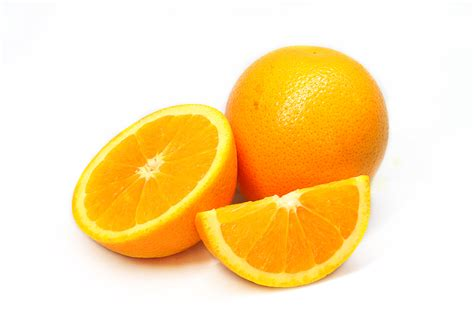orange: (220, 42, 391, 189)
